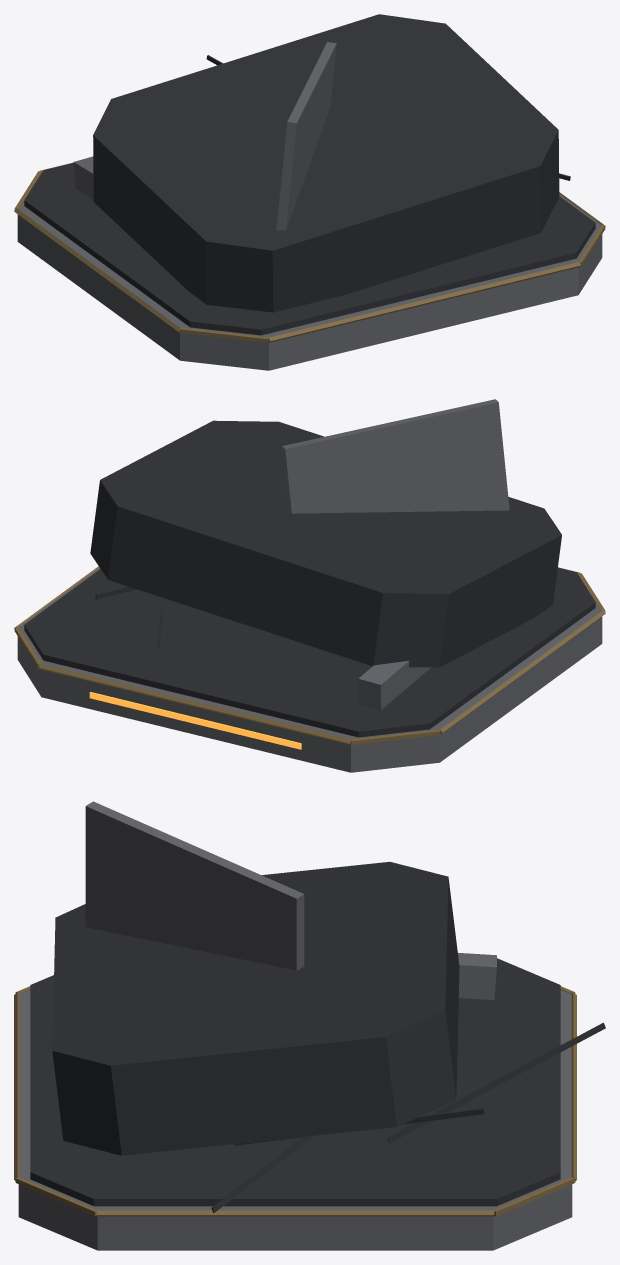
The model's file is Wreck_Aegis_BarracksBay.fbx.
The picture shows the model from 3 angles, top to bottom: view 1: azimuth 30°, elevation 25°; view 2: azimuth 150°, elevation 25°; view 3: azimuth 270°, elevation 25°; orthographic projection. The views are drawn at different scales.
Visible parts, largest first — view 1: Wreck_Aegis_BarracksBay; view 2: Wreck_Aegis_BarracksBay; view 3: Wreck_Aegis_BarracksBay.
Boxes of the visible parts, box(x1,y1,x2,y2) form: Wreck_Aegis_BarracksBay: box(14, 14, 605, 370); Wreck_Aegis_BarracksBay: box(14, 399, 605, 772); Wreck_Aegis_BarracksBay: box(14, 801, 605, 1250).
Bounding box in the file's own units: 3.14 × 1.46 × 2.99.
